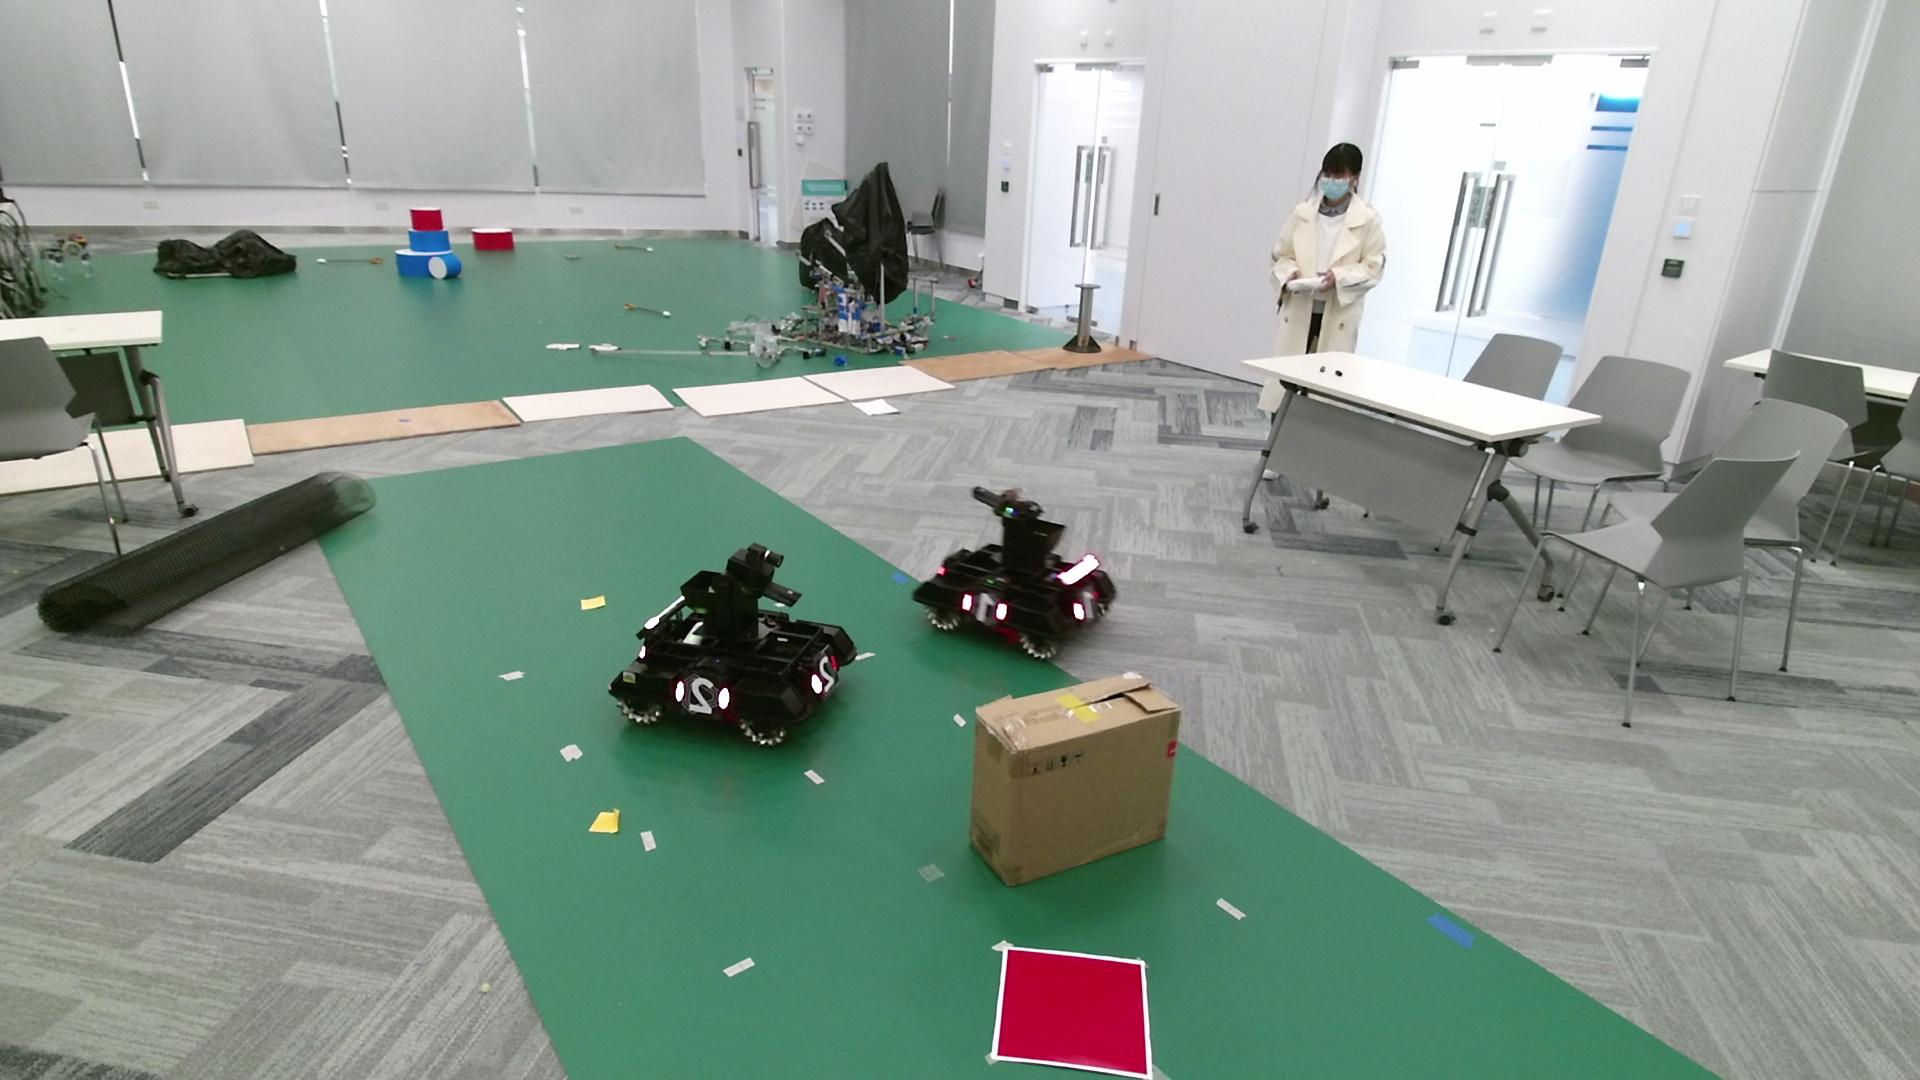robot: (607, 541, 858, 750), (913, 484, 1117, 661)
